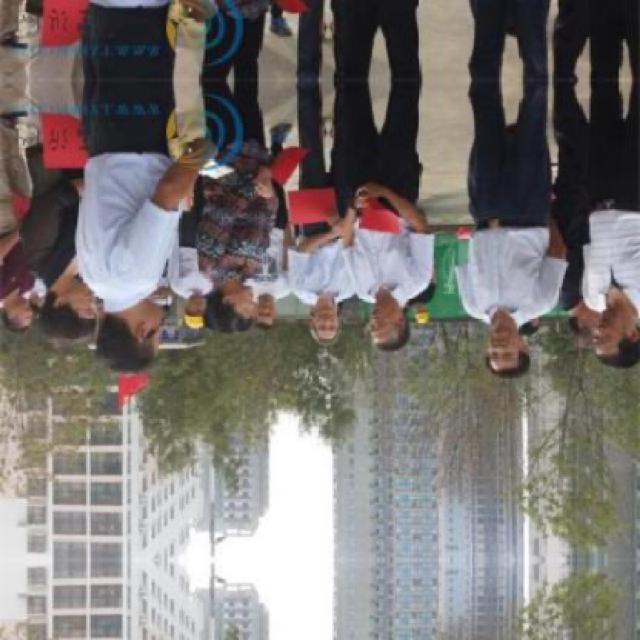sin casco: (587, 280, 640, 391), (466, 302, 532, 389), (37, 254, 93, 347), (376, 310, 424, 370), (308, 294, 347, 361), (234, 293, 276, 328)
